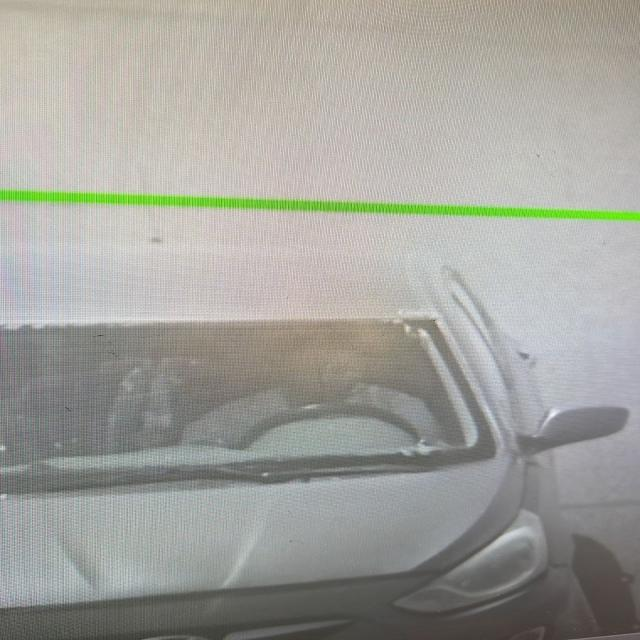person_without_seatbelt: (194, 317, 441, 464)
